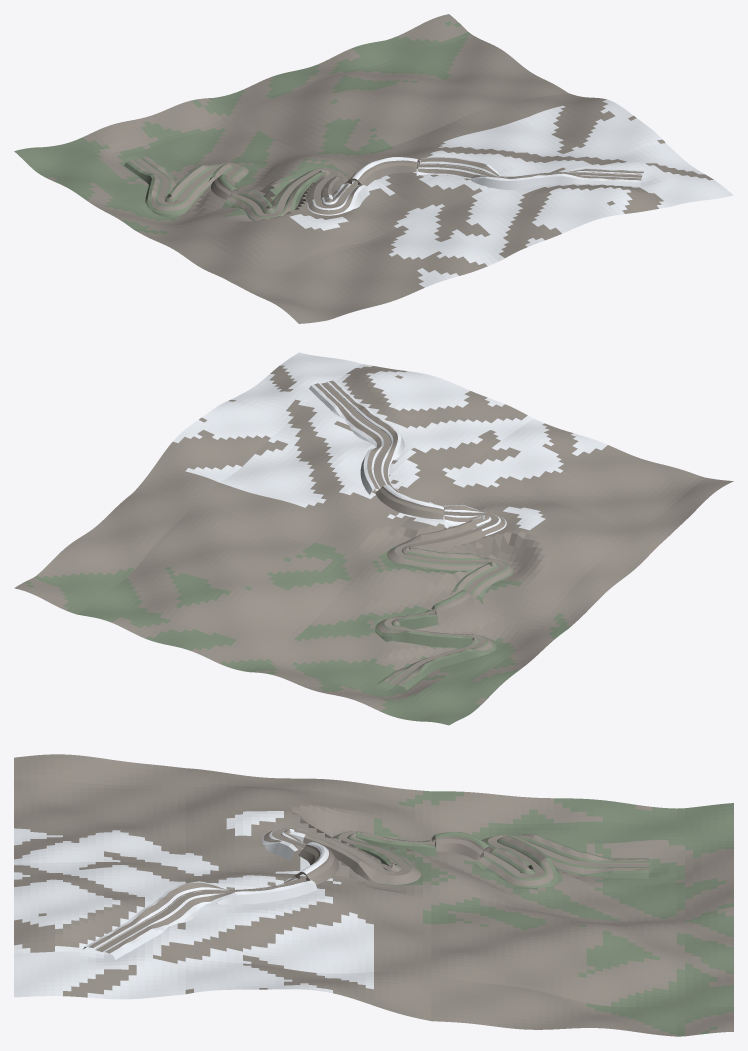
Rendered from Dag_Arazi.fbx.
3 renders of one model, top to bottom at view 1: azimuth 30°, elevation 25°; view 2: azimuth 150°, elevation 25°; view 3: azimuth 270°, elevation 25°, orthographic. The views are drawn at different scales.
Parts seen in each view (by area): view 1: Arazi_Dis_04, Arazi_Dis_01, Arazi_Dis_03, Arazi_Dis_02, Arazi_Yamac_04, Arazi_Yamac_01, Arazi_Yamac_02, Arazi_Yamac_03, Arazi_TunelDagi_02; view 2: Arazi_Dis_01, Arazi_Dis_04, Arazi_Dis_03, Arazi_Dis_02, Arazi_Yamac_04, Arazi_Yamac_01, Arazi_Yamac_02, Arazi_Yamac_03, Arazi_TunelDagi_02, Arazi_TunelDagi_01; view 3: Arazi_Dis_01, Arazi_Dis_03, Arazi_Dis_04, Arazi_Dis_02, Arazi_Yamac_04, Arazi_Yamac_01, Arazi_Yamac_03, Arazi_Yamac_02, Arazi_TunelDagi_02, Arazi_TunelDagi_01.
Part boxes in pixels (x1=…): Arazi_Dis_04: x1=157, y1=173, x2=515, y2=323; Arazi_Dis_01: x1=232, y1=14, x2=590, y2=162; Arazi_Dis_03: x1=394, y1=97, x2=733, y2=251; Arazi_Dis_02: x1=14, y1=94, x2=369, y2=241; Arazi_Yamac_04: x1=416, y1=156, x2=643, y2=189; Arazi_Yamac_01: x1=124, y1=156, x2=248, y2=217; Arazi_Yamac_02: x1=208, y1=164, x2=325, y2=220; Arazi_Yamac_03: x1=304, y1=168, x2=369, y2=215; Arazi_TunelDagi_02: x1=346, y1=157, x2=420, y2=185; Arazi_Dis_01: x1=14, y1=463, x2=373, y2=668; Arazi_Dis_04: x1=374, y1=409, x2=733, y2=606; Arazi_Dis_03: x1=157, y1=352, x2=515, y2=529; Arazi_Dis_02: x1=232, y1=530, x2=590, y2=725; Arazi_Yamac_04: x1=309, y1=380, x2=404, y2=494; Arazi_Yamac_01: x1=375, y1=616, x2=497, y2=690; Arazi_Yamac_02: x1=400, y1=547, x2=513, y2=629; Arazi_Yamac_03: x1=387, y1=505, x2=506, y2=563; Arazi_TunelDagi_02: x1=375, y1=484, x2=443, y2=519; Arazi_TunelDagi_01: x1=431, y1=590, x2=475, y2=618; Arazi_Dis_01: x1=374, y1=889, x2=733, y2=1036; Arazi_Dis_03: x1=14, y1=867, x2=373, y2=1005; Arazi_Dis_04: x1=14, y1=754, x2=373, y2=888; Arazi_Dis_02: x1=374, y1=785, x2=733, y2=931; Arazi_Yamac_04: x1=83, y1=876, x2=317, y2=959; Arazi_Yamac_01: x1=482, y1=834, x2=648, y2=887; Arazi_Yamac_03: x1=262, y1=827, x2=421, y2=884; Arazi_Yamac_02: x1=332, y1=831, x2=528, y2=879; Arazi_TunelDagi_02: x1=292, y1=842, x2=339, y2=884; Arazi_TunelDagi_01: x1=431, y1=832, x2=493, y2=860.
Size of the model in its own units: 1232 by 234 by 1398.
